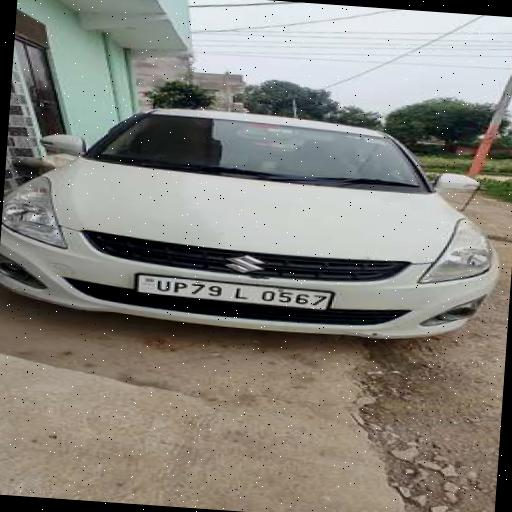license_plate`: (134, 274, 328, 310)
